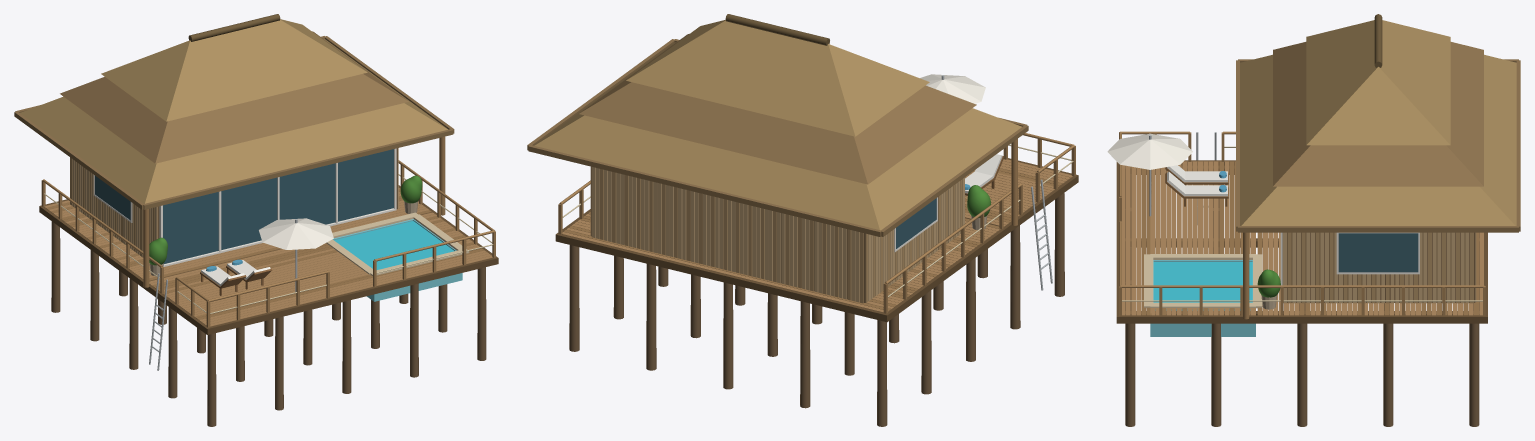
The model's file is villa.glb.
The picture shows the model from 3 angles, left to right: view 1: azimuth 30°, elevation 25°; view 2: azimuth 150°, elevation 25°; view 3: azimuth 270°, elevation 25°; orthographic projection. The views are drawn at different scales.
Parts seen in each view (by area): view 1: thatch_306, thatch_308, thatch2_307, glass_303, poolwater_320, beam_28, thatch2_310, canvas_344, beam_31, thatch2_313, tile_319, stilt_24 (+36 smaller); view 2: thatch_306, thatch_308, thatch2_307, beam_29, thatch2_311, beam_31, thatch2_313, stilt_20, stilt_15, stilt_10, canvas_344, stilt_5 (+18 smaller); view 3: thatch_306, thatch_308, thatch2_307, poolwater_320, beam_30, glass_294, cladback_250, canvas_344, thatch2_312, tile_319, stilt_20, stilt_21 (+33 smaller).
Boxes of the visible parts, box(x1,y1,x2,y2) form: thatch_306: box(20, 38, 448, 203); thatch_308: box(101, 19, 367, 121); thatch2_307: box(60, 31, 408, 163); glass_303: box(163, 149, 393, 263); poolwater_320: box(334, 221, 454, 269); beam_28: box(207, 258, 498, 334); thatch2_310: box(143, 129, 453, 209); canvas_344: box(259, 218, 333, 249); beam_31: box(39, 206, 209, 334); thatch2_313: box(14, 112, 143, 209); tile_319: box(332, 219, 462, 301); stilt_24: box(477, 267, 486, 360); thatch_306: box(534, 42, 1021, 230); thatch_308: box(626, 20, 929, 136); thatch2_307: box(579, 34, 976, 184); beam_29: box(555, 234, 888, 321); thatch2_311: box(528, 145, 881, 236); beam_31: box(887, 175, 1078, 321); thatch2_313: box(881, 125, 1028, 236); stilt_20: box(569, 245, 579, 351); stilt_15: box(646, 264, 656, 370); stilt_10: box(723, 282, 733, 389); canvas_344: box(920, 74, 985, 103); stilt_5: box(800, 301, 810, 408); thatch_306: box(1240, 54, 1516, 225); thatch_308: box(1306, 20, 1450, 145); thatch2_307: box(1273, 42, 1483, 186); poolwater_320: box(1153, 262, 1252, 302); beam_30: box(1117, 315, 1487, 323); glass_294: box(1338, 233, 1418, 272); cladback_250: box(1282, 232, 1474, 302); canvas_344: box(1107, 133, 1192, 169); thatch2_312: box(1238, 226, 1518, 232); tile_319: box(1150, 260, 1255, 336); stilt_20: box(1469, 323, 1479, 426); stilt_21: box(1383, 323, 1393, 426).
Size of the model in its own units: 12.15 by 10.49 by 12.5.
